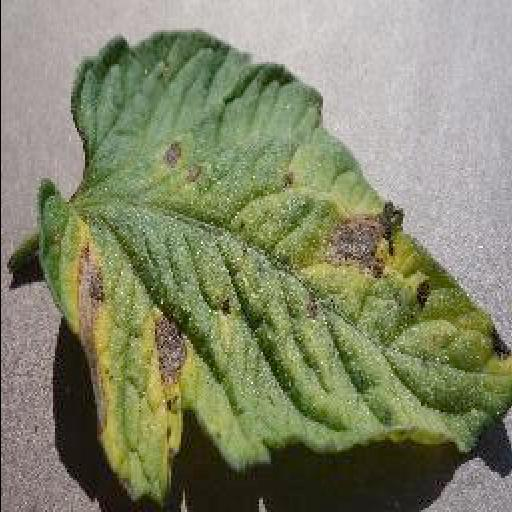Early Blight: (36, 26, 512, 506)
